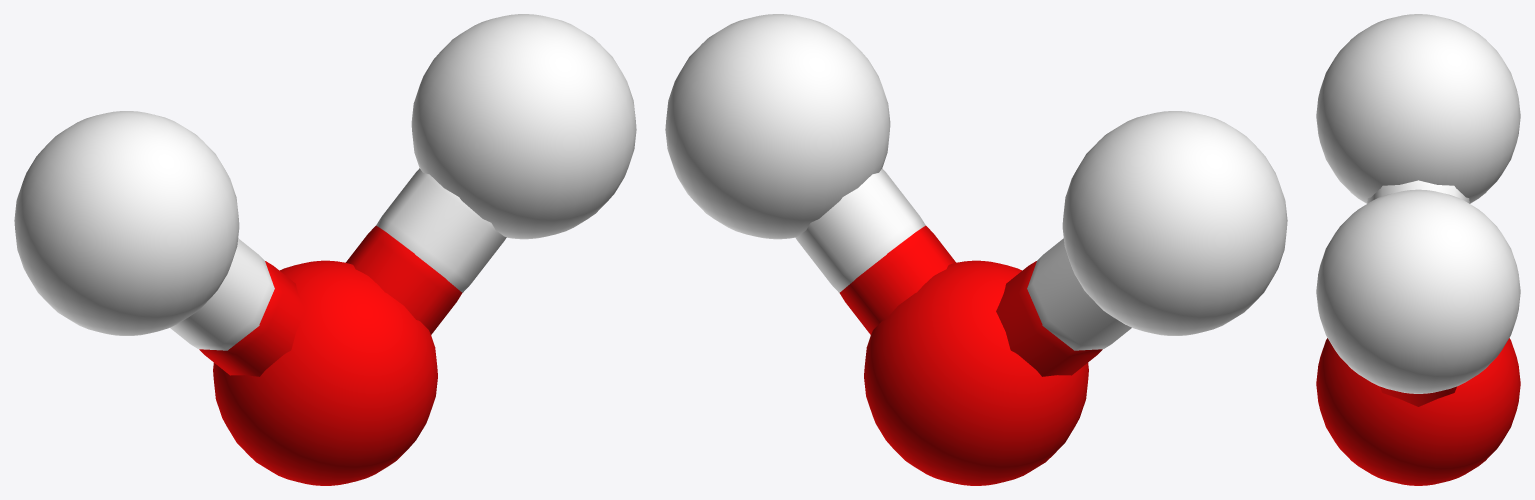
3 renders of one model, left to right at view 1: azimuth 30°, elevation 25°; view 2: azimuth 150°, elevation 25°; view 3: azimuth 270°, elevation 25°, orthographic. The views are drawn at different scales.
Parts seen in each view (by area): view 1: 2ndH, 1stH, 1stO, 1stHBond, 2ndHbond, 1stObond, 2ndObond; view 2: 2ndH, 1stH, 1stO, 1stHBond, 2ndHbond, 1stObond, 2ndObond; view 3: 1stH, 2ndH, 1stO, 2ndHbond, 1stObond.
Part boxes in pixels (left/top/right/bottom): 2ndH: left=14, top=111, right=239, bottom=335; 1stH: left=411, top=14, right=636, bottom=239; 1stO: left=213, top=260, right=437, bottom=485; 1stHBond: left=376, top=168, right=506, bottom=292; 2ndHbond: left=170, top=238, right=274, bottom=350; 1stObond: left=345, top=225, right=462, bottom=334; 2ndObond: left=199, top=261, right=305, bottom=376; 2ndH: left=1062, top=111, right=1287, bottom=335; 1stH: left=665, top=14, right=890, bottom=239; 1stO: left=864, top=260, right=1088, bottom=485; 1stHBond: left=795, top=168, right=925, bottom=292; 2ndHbond: left=1027, top=238, right=1131, bottom=350; 1stObond: left=839, top=225, right=956, bottom=334; 2ndObond: left=996, top=261, right=1102, bottom=376; 1stH: left=1316, top=189, right=1520, bottom=393; 2ndH: left=1316, top=14, right=1520, bottom=203; 1stO: left=1316, top=338, right=1520, bottom=485; 2ndHbond: left=1367, top=180, right=1469, bottom=203; 1stObond: left=1380, top=386, right=1456, bottom=406.
Bounding box in the file's own units: 1.82 × 1.18 × 0.6.
